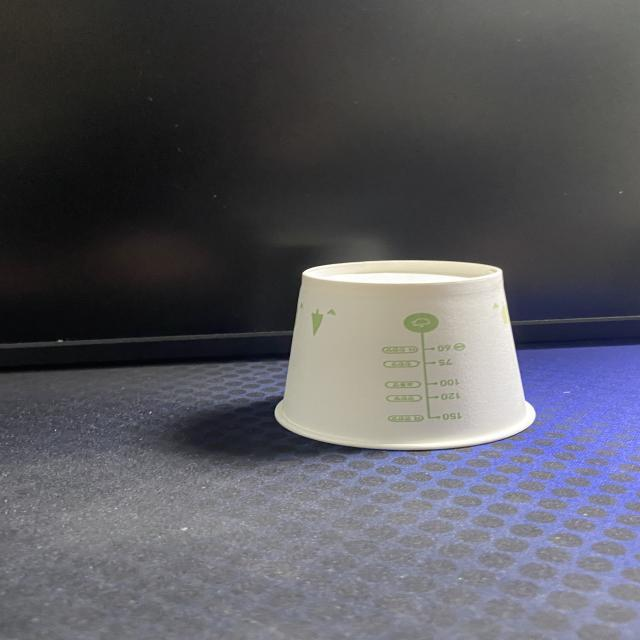trash: (270, 258, 540, 452)
